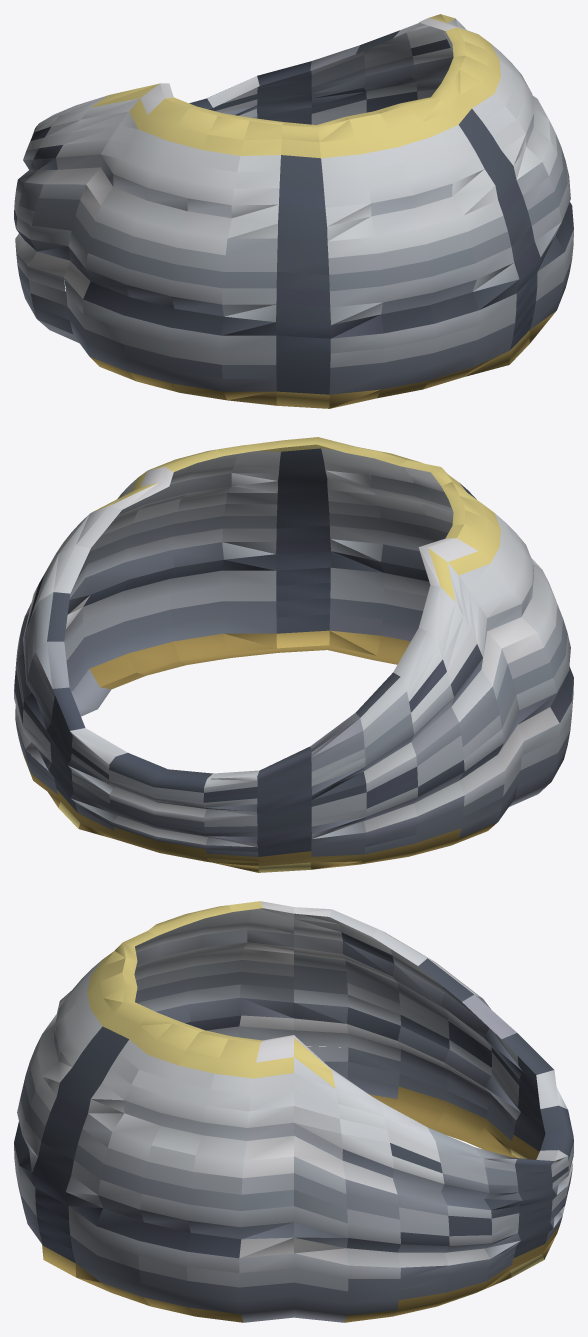
Rendered from Slime_Armor.glb.
3 renders of one model, top to bottom at view 1: azimuth 30°, elevation 25°; view 2: azimuth 150°, elevation 25°; view 3: azimuth 270°, elevation 25°, orthographic.
Parts seen in each view (by area): view 1: SlimeArmor; view 2: SlimeArmor; view 3: SlimeArmor.
Boxes of the visible parts, x1=… form: SlimeArmor: x1=14, y1=14, x2=573, y2=408; SlimeArmor: x1=14, y1=437, x2=573, y2=872; SlimeArmor: x1=14, y1=901, x2=573, y2=1322.
Size of the model in its own units: 1.3 by 0.6358 by 1.32.
